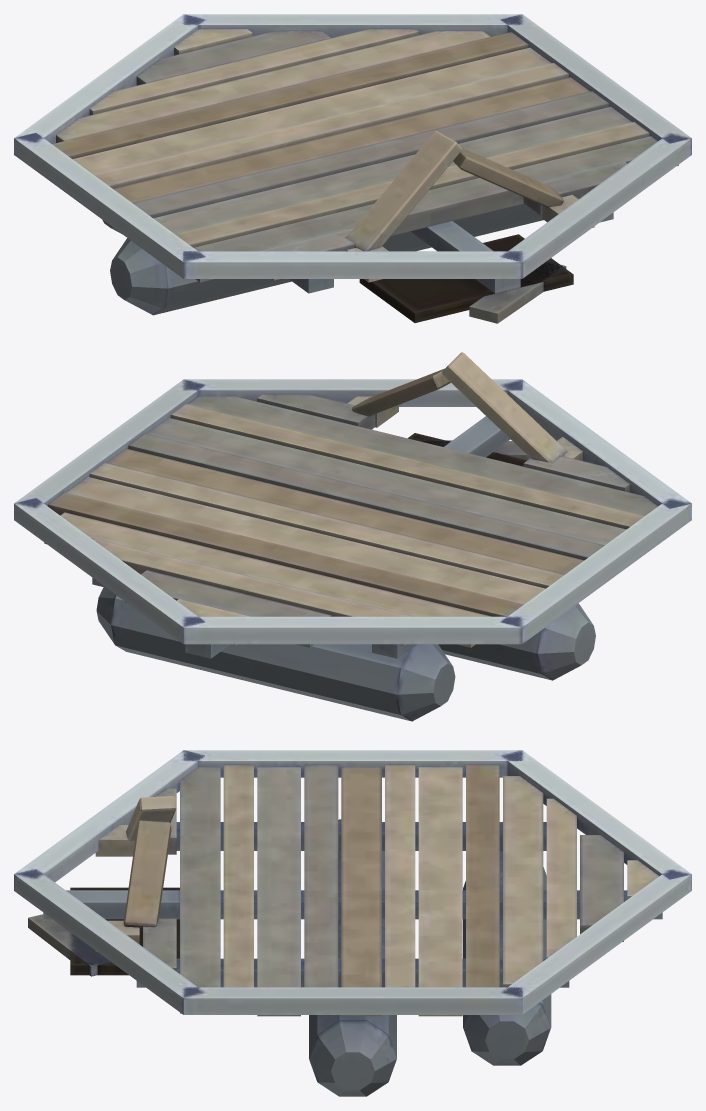
Rendered from raft-damaged-age20.glb.
The picture shows the model from 3 angles, top to bottom: view 1: azimuth 30°, elevation 25°; view 2: azimuth 150°, elevation 25°; view 3: azimuth 270°, elevation 25°; orthographic projection.
Visible parts, largest first — view 1: raft-damaged-age20; view 2: raft-damaged-age20; view 3: raft-damaged-age20.
Part boxes in pixels (x1,y1,x2,y2): raft-damaged-age20: [14, 14, 691, 323]; raft-damaged-age20: [14, 352, 691, 721]; raft-damaged-age20: [14, 750, 691, 1096].
Size of the model in its own units: 1.6 by 0.5899 by 1.85.
Materials: 1 (1 with a texture image).
